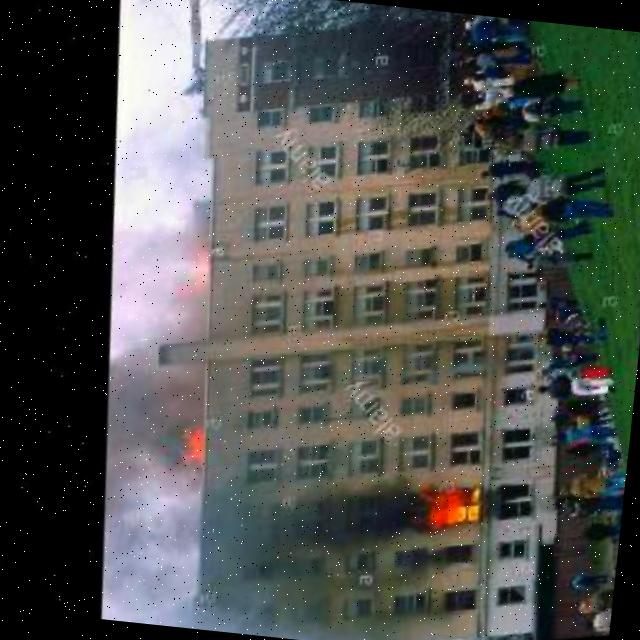fire: (412, 478, 480, 545), (162, 426, 206, 478), (177, 252, 205, 294)
